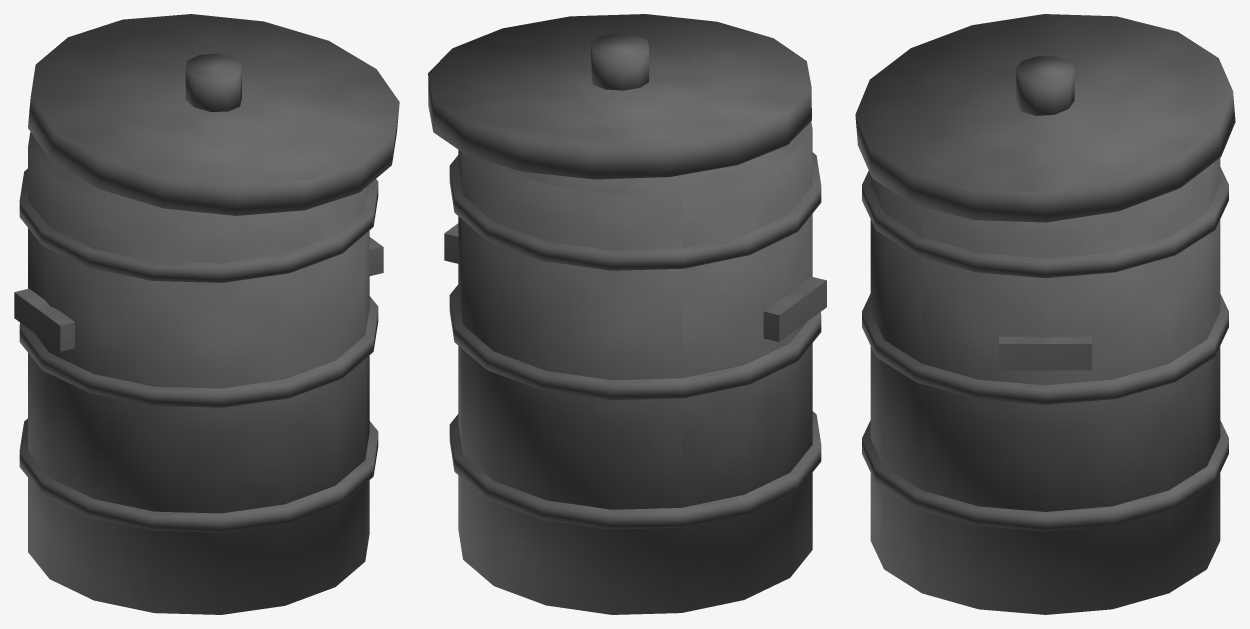
File: prop_ashmoor_ashcan.glb
3 renders of one model, left to right at view 1: azimuth 30°, elevation 25°; view 2: azimuth 150°, elevation 25°; view 3: azimuth 270°, elevation 25°, orthographic. The views are drawn at different scales.
Parts seen in each view (by area): view 1: prop_ashmoor_ashcan; view 2: prop_ashmoor_ashcan; view 3: prop_ashmoor_ashcan.
Boxes of the visible parts, x1=… form: prop_ashmoor_ashcan: x1=14, y1=14, x2=399, y2=614; prop_ashmoor_ashcan: x1=428, y1=14, x2=826, y2=614; prop_ashmoor_ashcan: x1=855, y1=14, x2=1235, y2=614.
Size of the model in its own units: 0.6811 by 0.91 by 0.6526.
1 material, 1 textured.
